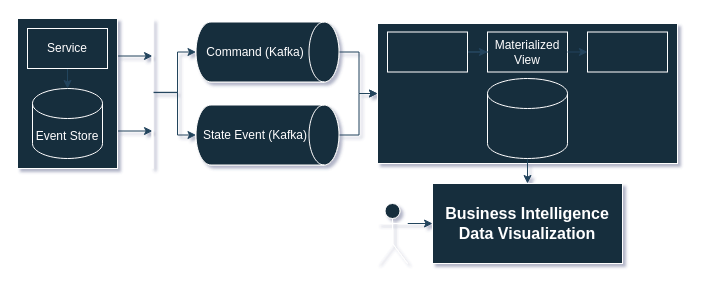
Image size: 701x287. Some labels were removed from this diagram. Here are the shapes that lost their labels. From the top down, the centre of each, then its label:
At [427,51]: "Kafka Table Engine".
At [627,51]: "MergeTree Family Table".
At [527,118]: "ClickHouse".
